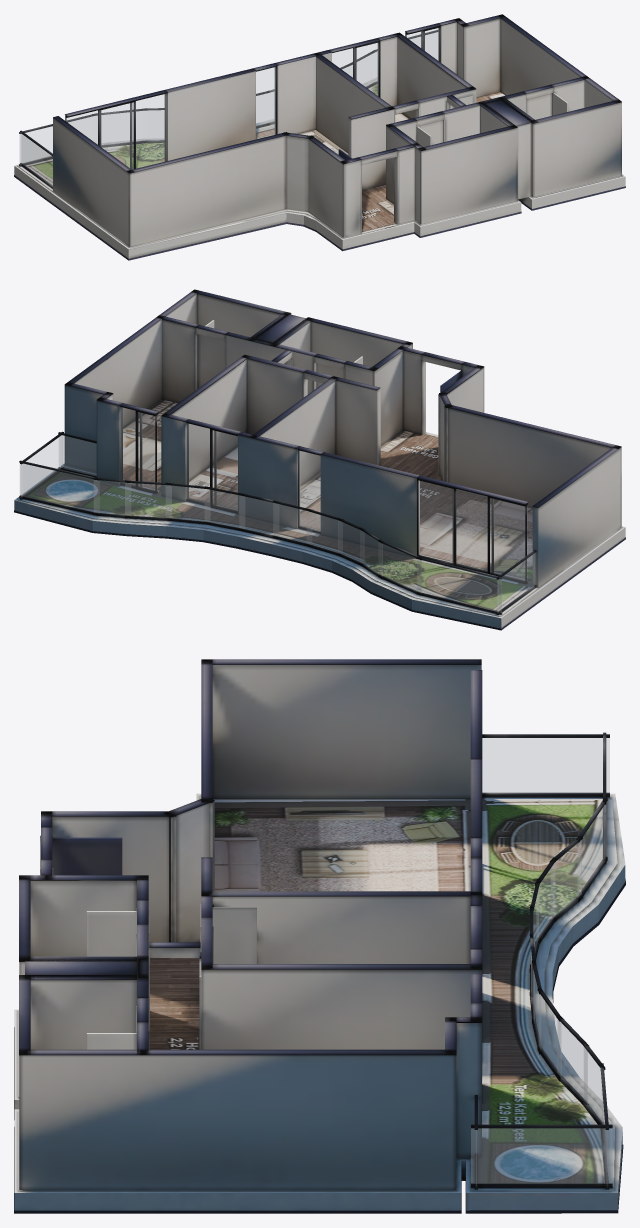
3 views of the same model, one above another, from view 1: azimuth 30°, elevation 25°; view 2: azimuth 150°, elevation 25°; view 3: azimuth 270°, elevation 25° (orthographic). The views are drawn at different scales.
Visible parts, largest first — view 1: plan, glass0_m, glass2_m, glass1_m, railg2_m, railg5_m, railg1_m, glass3_m, railg6_m, railg12_m; view 2: plan, glass0_m, glass2_m, railg2_m, railg14_m, glass3_m, railg12_m, railg11_m, glass1_m, railg5_m, railg10_m, railg9_m (+8 smaller); view 3: plan, railg0_m, railg1_m, railg6_m, railg12_m, railg5_m, railg11_m, railg13_m, railg7_m.
Boxes of the visible parts, <box> form: plan: <box>14,14,625,260</box>; glass0_m: <box>66,94,166,169</box>; glass2_m: <box>332,43,378,95</box>; glass1_m: <box>256,67,275,138</box>; railg2_m: <box>19,117,93,163</box>; railg5_m: <box>96,111,142,144</box>; railg1_m: <box>21,134,52,185</box>; glass3_m: <box>406,28,438,60</box>; railg6_m: <box>147,110,163,140</box>; railg12_m: <box>357,55,371,86</box>; plan: <box>14,289,625,630</box>; glass0_m: <box>419,481,524,580</box>; glass2_m: <box>187,423,237,510</box>; railg2_m: <box>417,559,501,612</box>; railg14_m: <box>20,464,99,512</box>; glass3_m: <box>121,407,154,490</box>; railg12_m: <box>125,483,171,517</box>; railg11_m: <box>166,485,210,521</box>; glass1_m: <box>299,451,320,530</box>; railg5_m: <box>379,542,421,592</box>; railg10_m: <box>205,489,244,528</box>; railg9_m: <box>239,496,278,536</box>; plan: <box>14,659,625,1213</box>; railg0_m: <box>471,1128,612,1183</box>; railg1_m: <box>482,738,609,793</box>; railg6_m: <box>551,840,581,919</box>; railg12_m: <box>557,1019,587,1103</box>; railg5_m: <box>577,805,606,897</box>; railg11_m: <box>539,994,561,1076</box>; railg13_m: <box>584,1047,603,1123</box>; railg7_m: <box>537,863,554,940</box>.
Size of the model in its own units: 14.33 by 2.62 by 9.28.
Materials: 2 (1 with a texture image).
